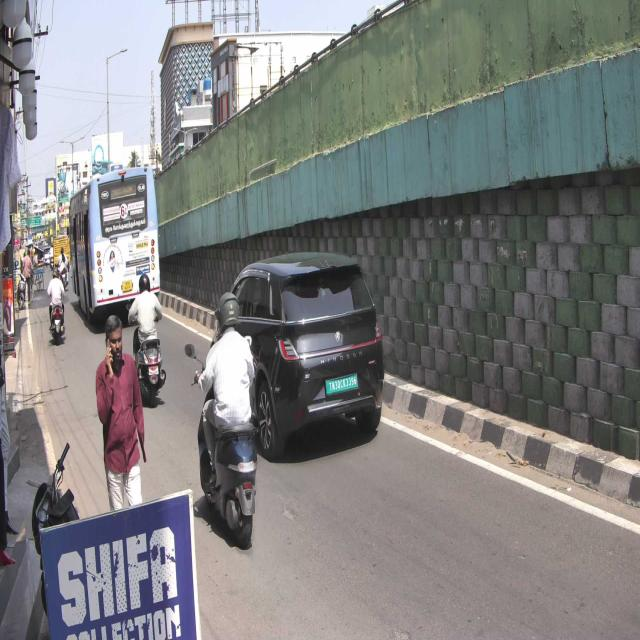single_rider: (189, 290, 259, 550)
